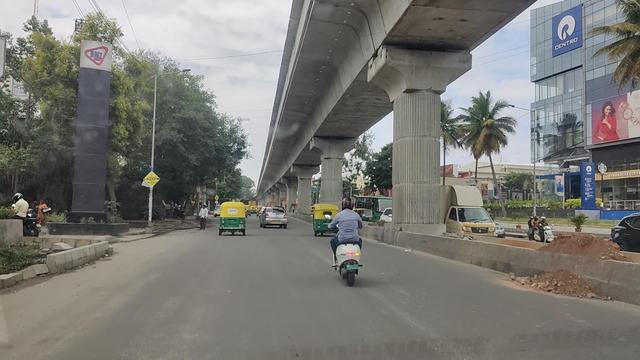LMV: (329, 195, 368, 287), (219, 202, 247, 235)
